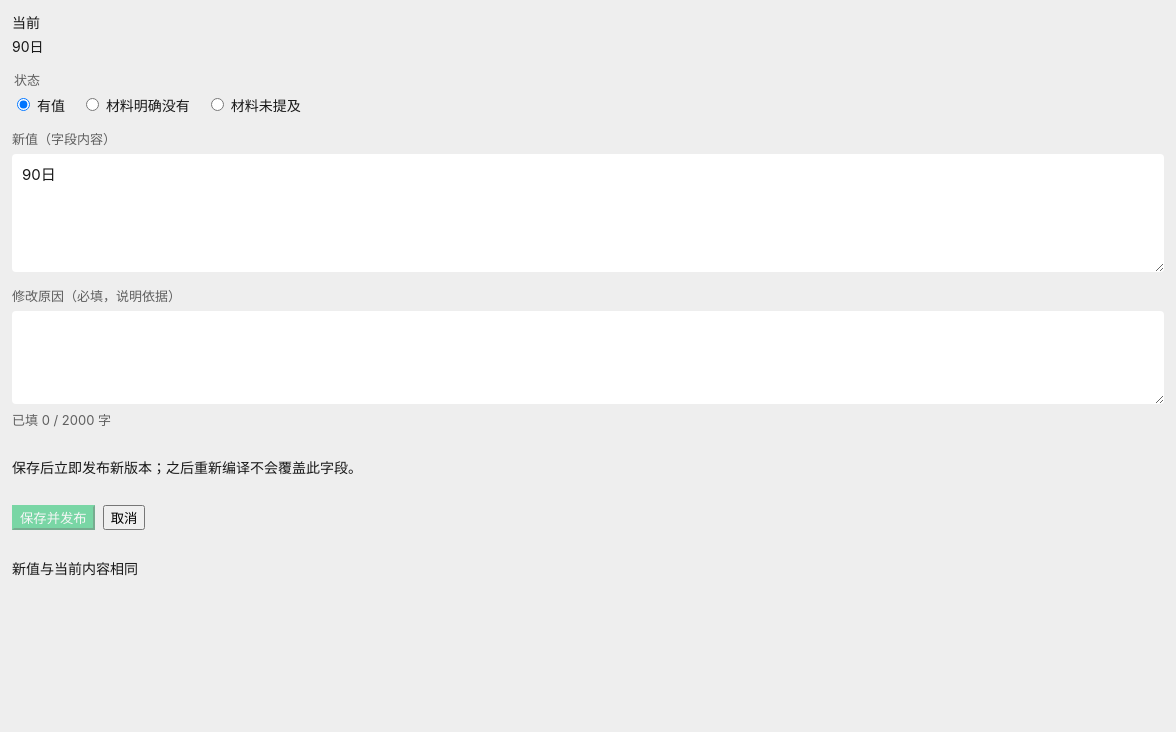
it: refusals › EXPERT_EDIT_INVALID (400) explains itself and keeps the input
Replace the text in the text box labelled "新值（字段内容）" with "180日": (588,213) [12,154,1164,272]
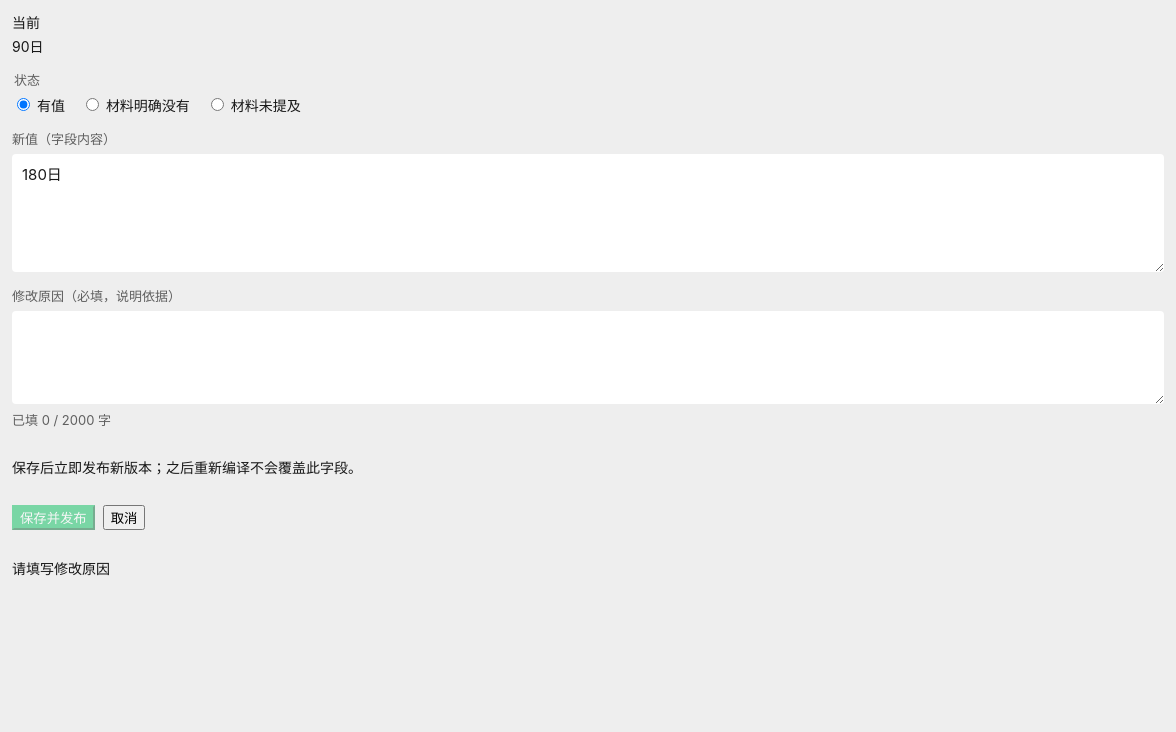
In the text box labelled "修改原因（必填，说明依据） 已填 0 / 2000 字": (588,357) [12,311,1164,404], type "备案条款第五条"
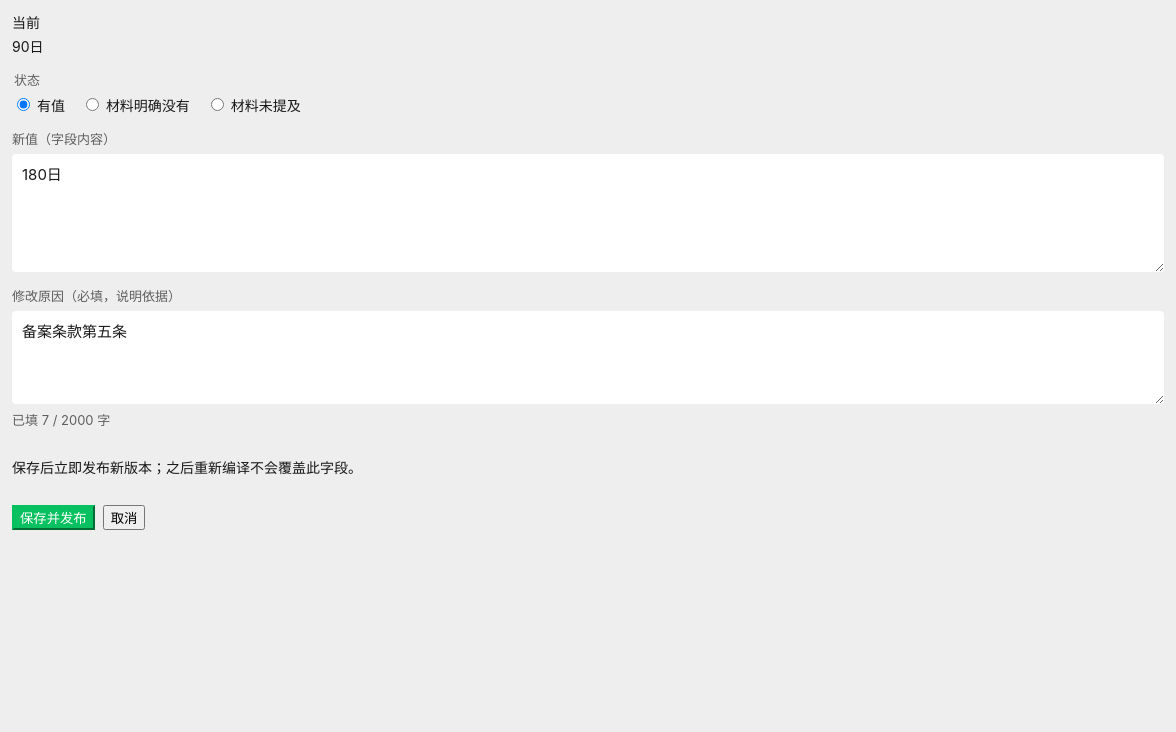
Click the button "保存并发布": (53,517) [12,504,95,530]
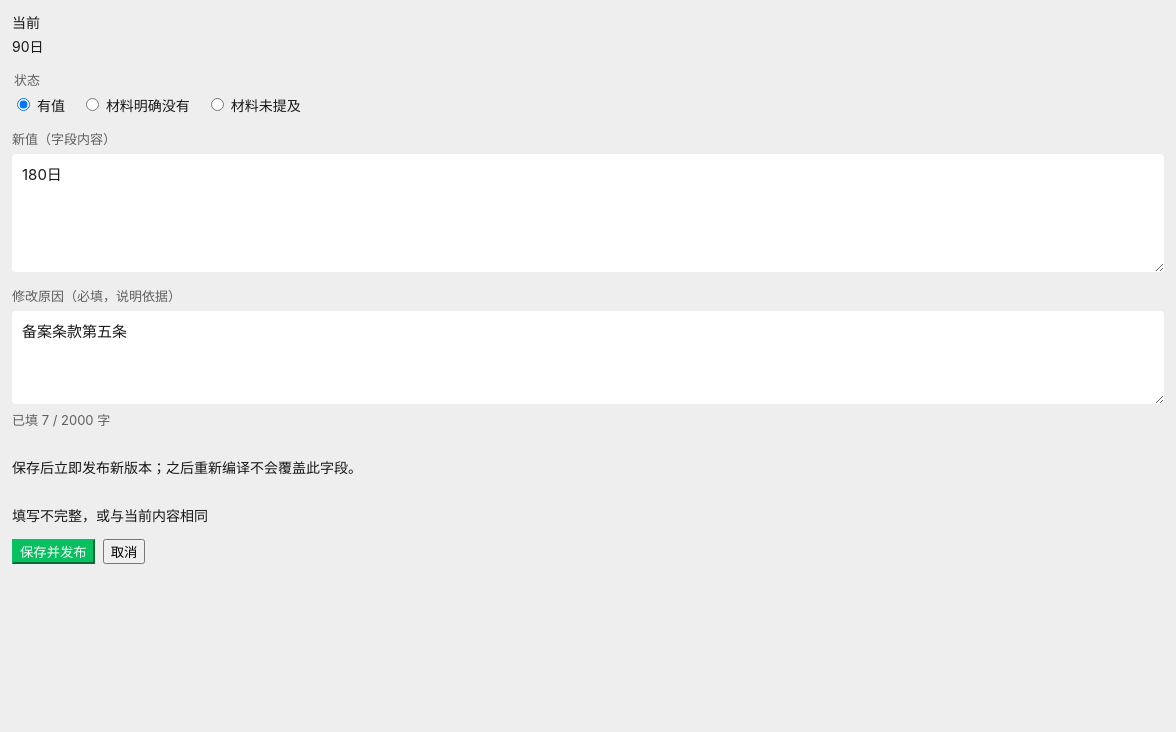
Now the message "填写不完整，或与当前内容相同" is shown, box [12,506,208,524]
